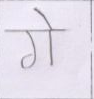o_matra: (42, 8, 57, 68)
